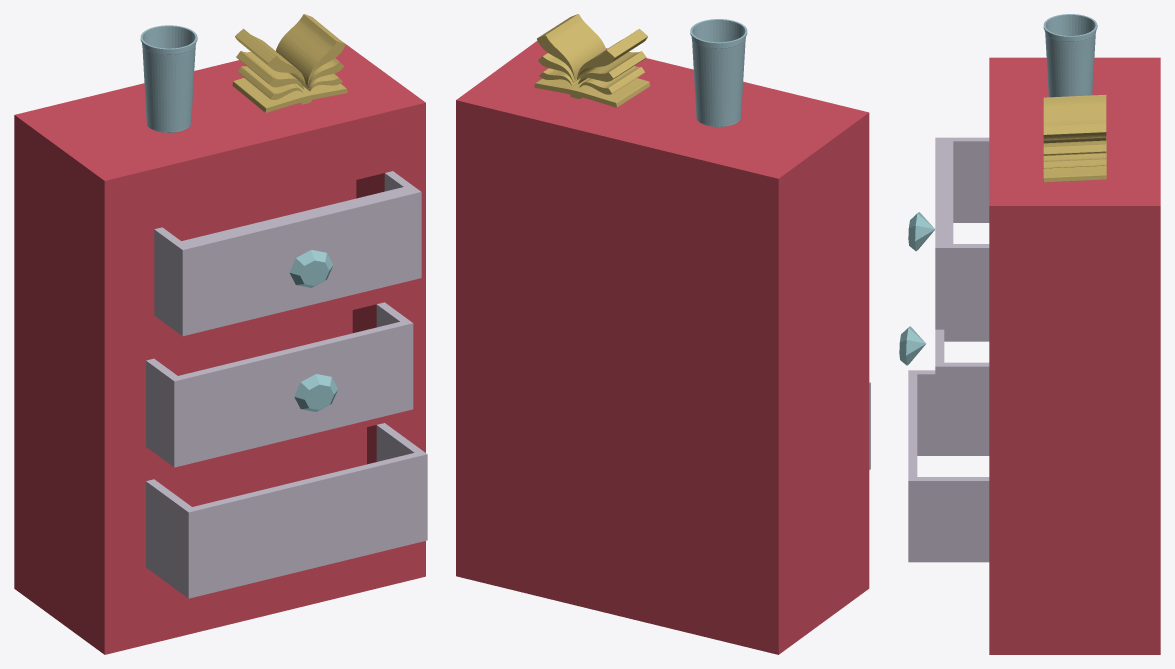
File: Sizzling Leelo.glb
The picture shows the model from 3 angles, left to right: view 1: azimuth 30°, elevation 25°; view 2: azimuth 150°, elevation 25°; view 3: azimuth 270°, elevation 25°; orthographic projection. The views are drawn at different scales.
Visible parts, largest first — view 1: Mesh_Mesh_head_geo.001_lambert2SG.001; view 2: Mesh_Mesh_head_geo.001_lambert2SG.001; view 3: Mesh_Mesh_head_geo.001_lambert2SG.001.
Boxes of the visible parts, x1=… form: Mesh_Mesh_head_geo.001_lambert2SG.001: x1=14, y1=14, x2=427, y2=654; Mesh_Mesh_head_geo.001_lambert2SG.001: x1=456, y1=14, x2=870, y2=654; Mesh_Mesh_head_geo.001_lambert2SG.001: x1=899, y1=14, x2=1160, y2=654.
Size of the model in its own units: 39 by 65 by 29.
